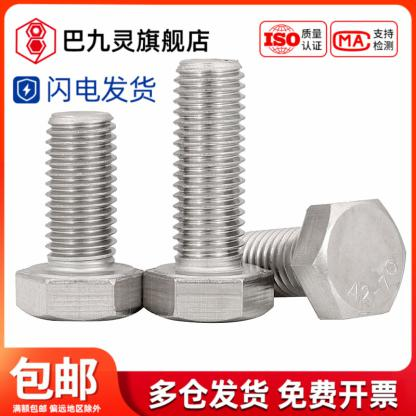FOD: (142, 58, 275, 324), (13, 110, 143, 323), (237, 197, 408, 322)
